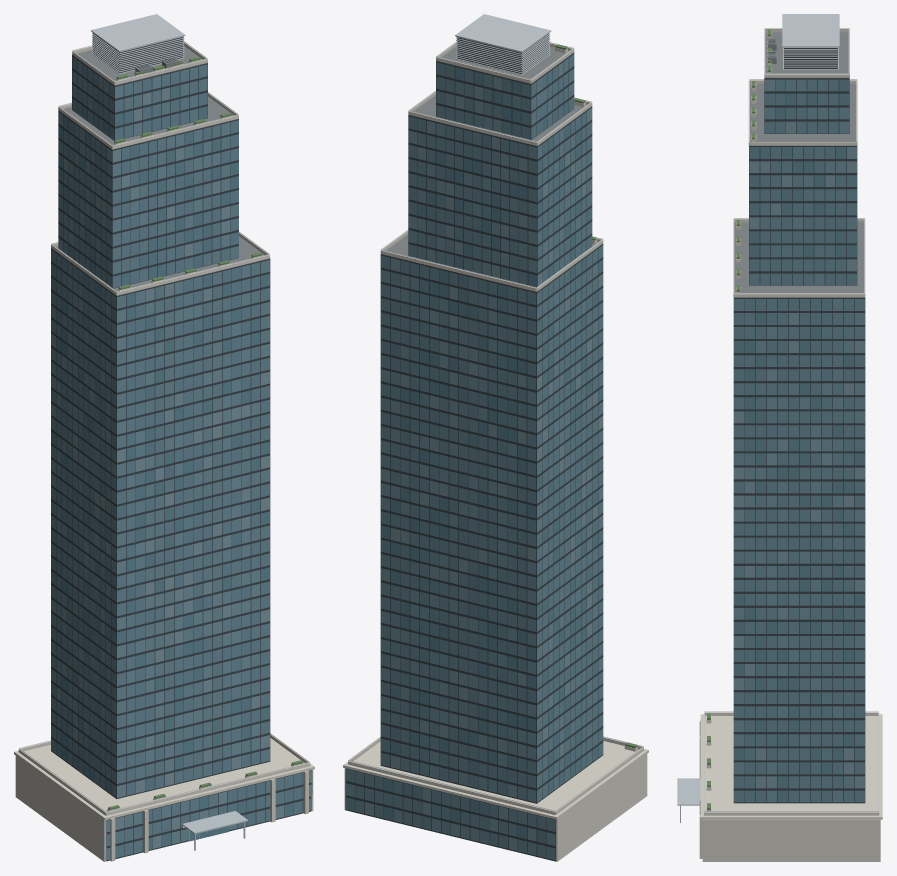
The model's file is office-tower-01.glb.
The picture shows the model from 3 angles, left to right: view 1: azimuth 30°, elevation 25°; view 2: azimuth 150°, elevation 25°; view 3: azimuth 270°, elevation 25°; orthographic projection.
Visible parts, largest first — view 1: Podium.Core; view 2: Podium.Core; view 3: Podium.Core.
Boxes of the visible parts, x1,y1,x2,y2 form: Podium.Core: [14, 14, 314, 861]; Podium.Core: [343, 14, 648, 861]; Podium.Core: [677, 14, 882, 861].
Bounding box in the file's own units: 63 × 220 × 53.
Materials: 1 (1 with a texture image).
